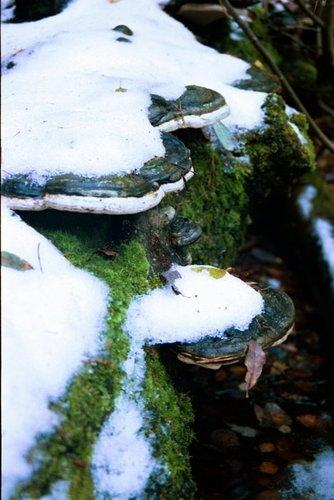Ganoderma - Fruit Body: (0, 131, 194, 213), (161, 271, 299, 368), (143, 88, 232, 128)
